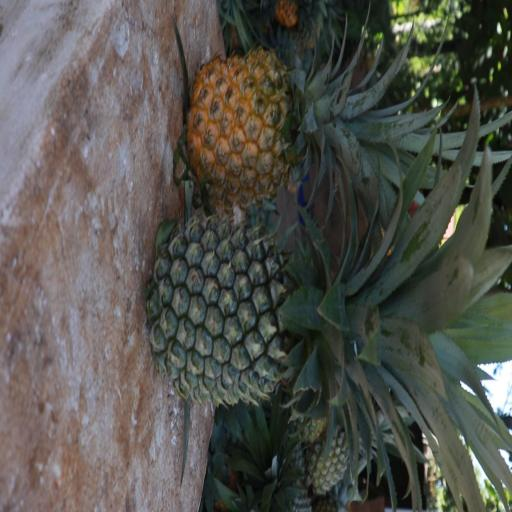Pineapple - v8 v1: (190, 49, 448, 201)
